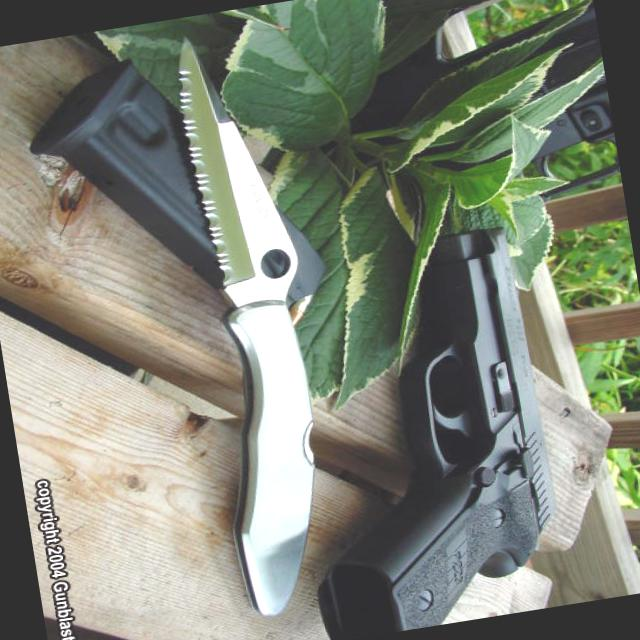knife: (160, 15, 308, 308)
